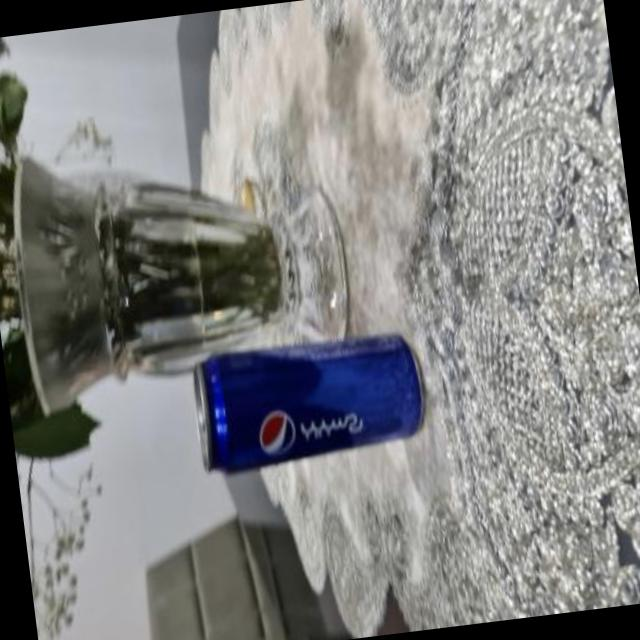metal: (192, 334, 421, 470)
